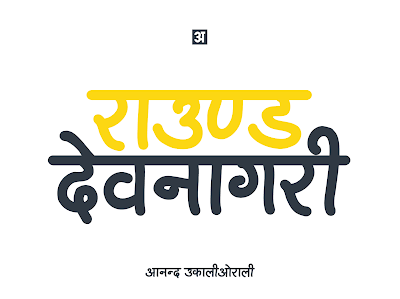text: (45, 155, 353, 226), (85, 89, 308, 148), (183, 263, 255, 278), (144, 265, 181, 280)
